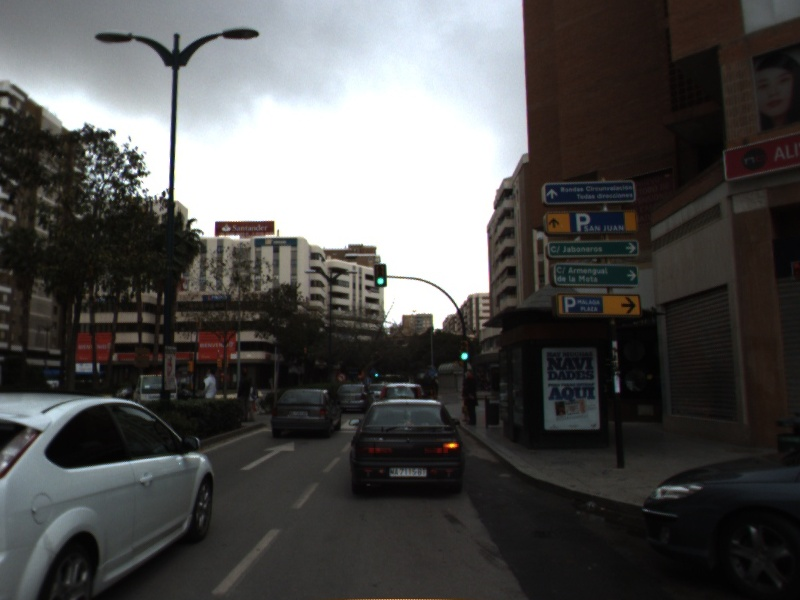STRAIGHT: (238, 439, 297, 473)
